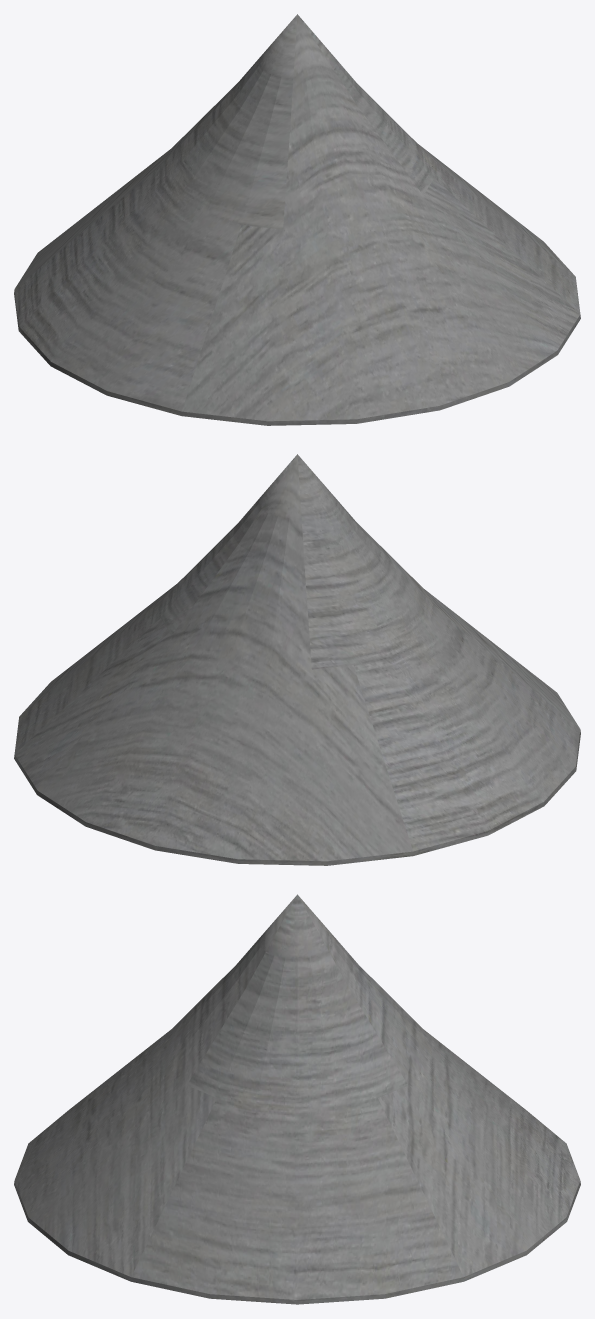
File: TreeTopBlock.obj
3 renders of one model, top to bottom at view 1: azimuth 30°, elevation 25°; view 2: azimuth 150°, elevation 25°; view 3: azimuth 270°, elevation 25°, orthographic.
Parts seen in each view (by area): view 1: pCylinder1; view 2: pCylinder1; view 3: pCylinder1.
Boxes of the visible parts, x1,y1,x2,y2 form: pCylinder1: [14, 14, 580, 425]; pCylinder1: [14, 454, 580, 865]; pCylinder1: [14, 894, 580, 1304].
Size of the model in its own units: 3.19 by 2.36 by 3.19.
Materials: 1 (1 with a texture image).
